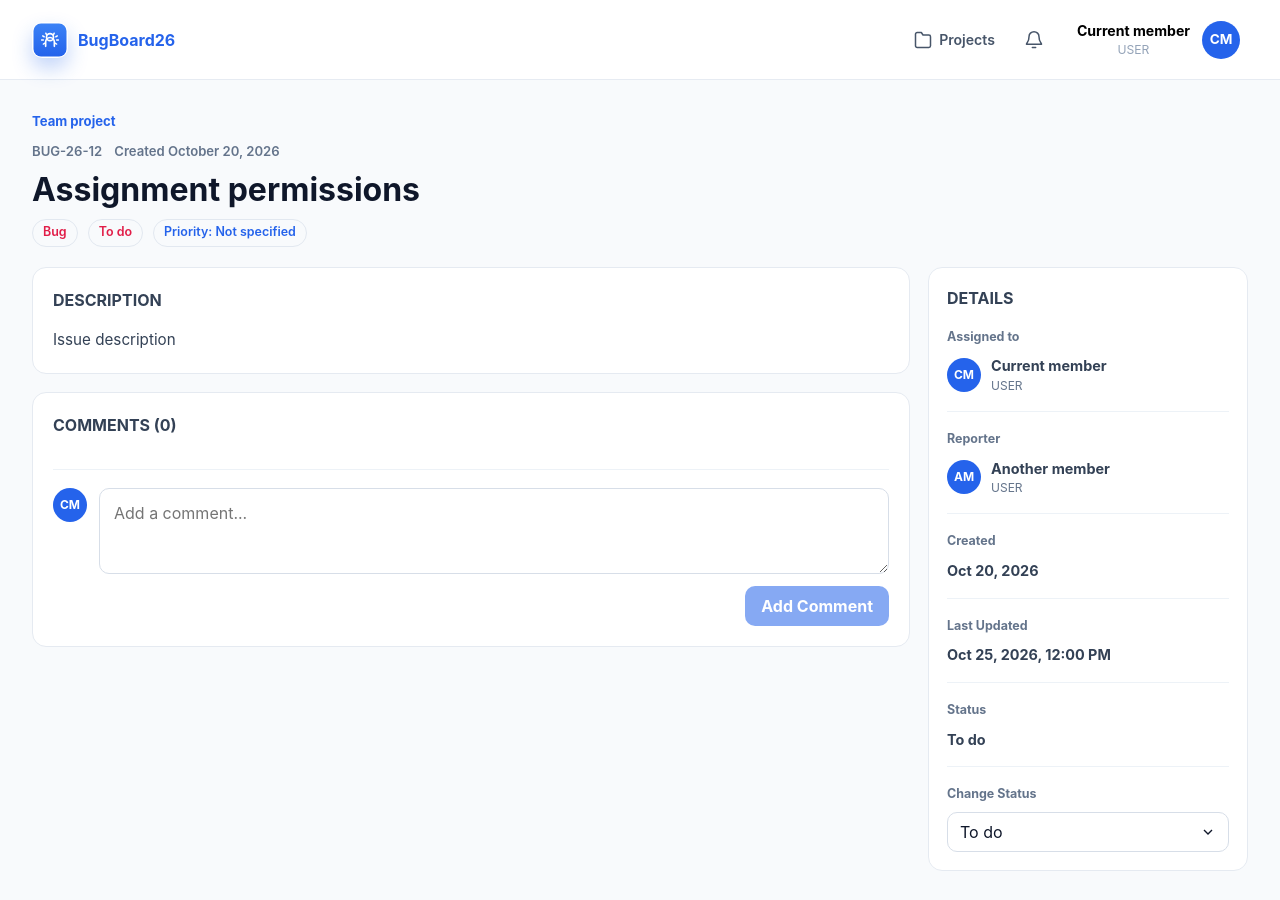
it: the assigned USER can advance the existing status transition
The image size is (1280, 900).
Check: the heading "Assignment permissions" is shown, box [32,170,420,209]
Click the button named "Change Status": [981, 832] box [947,812,1229,852]
(page scrolled)
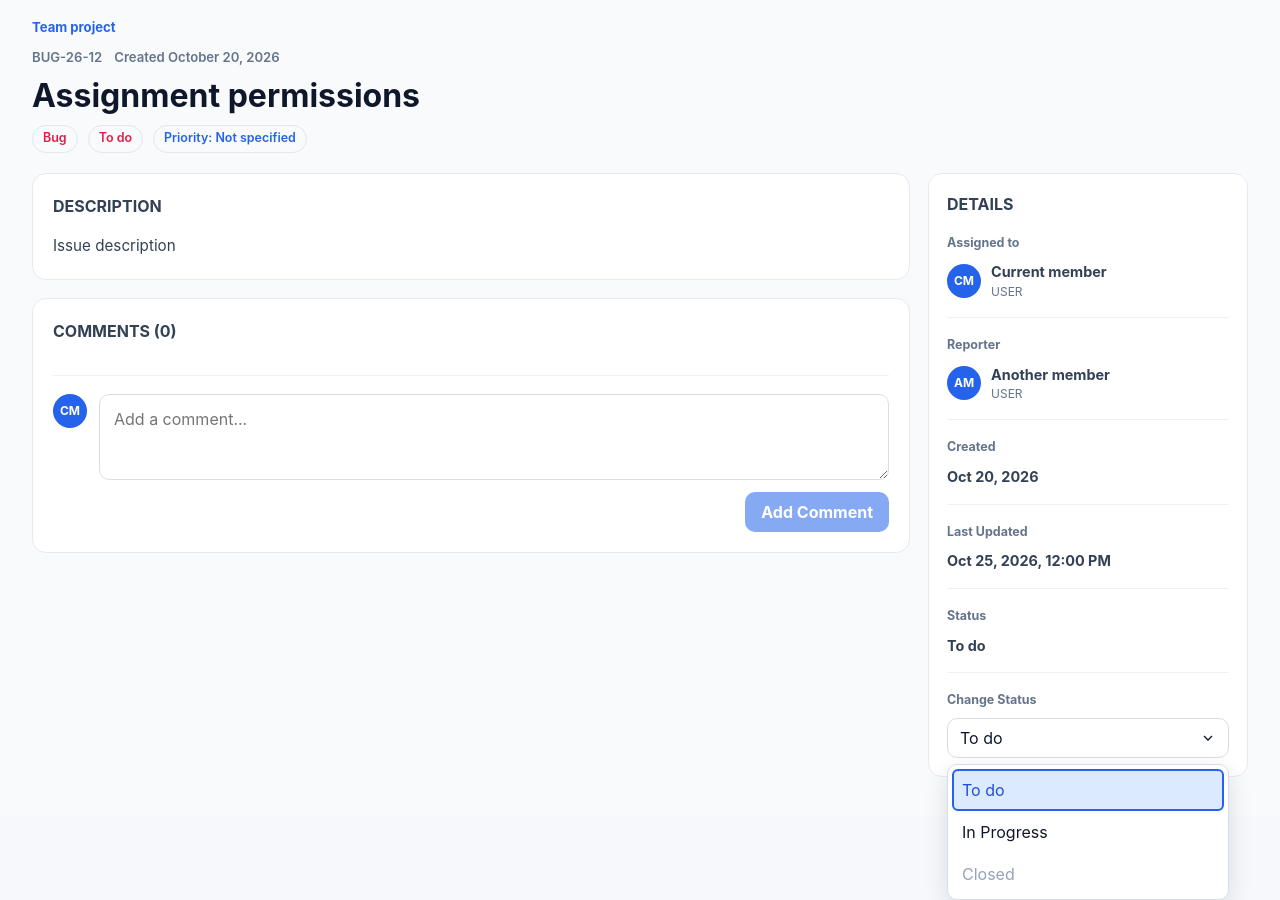
Click the option "In Progress": [1005, 832] box [952,811,1224,853]
(page scrolled)
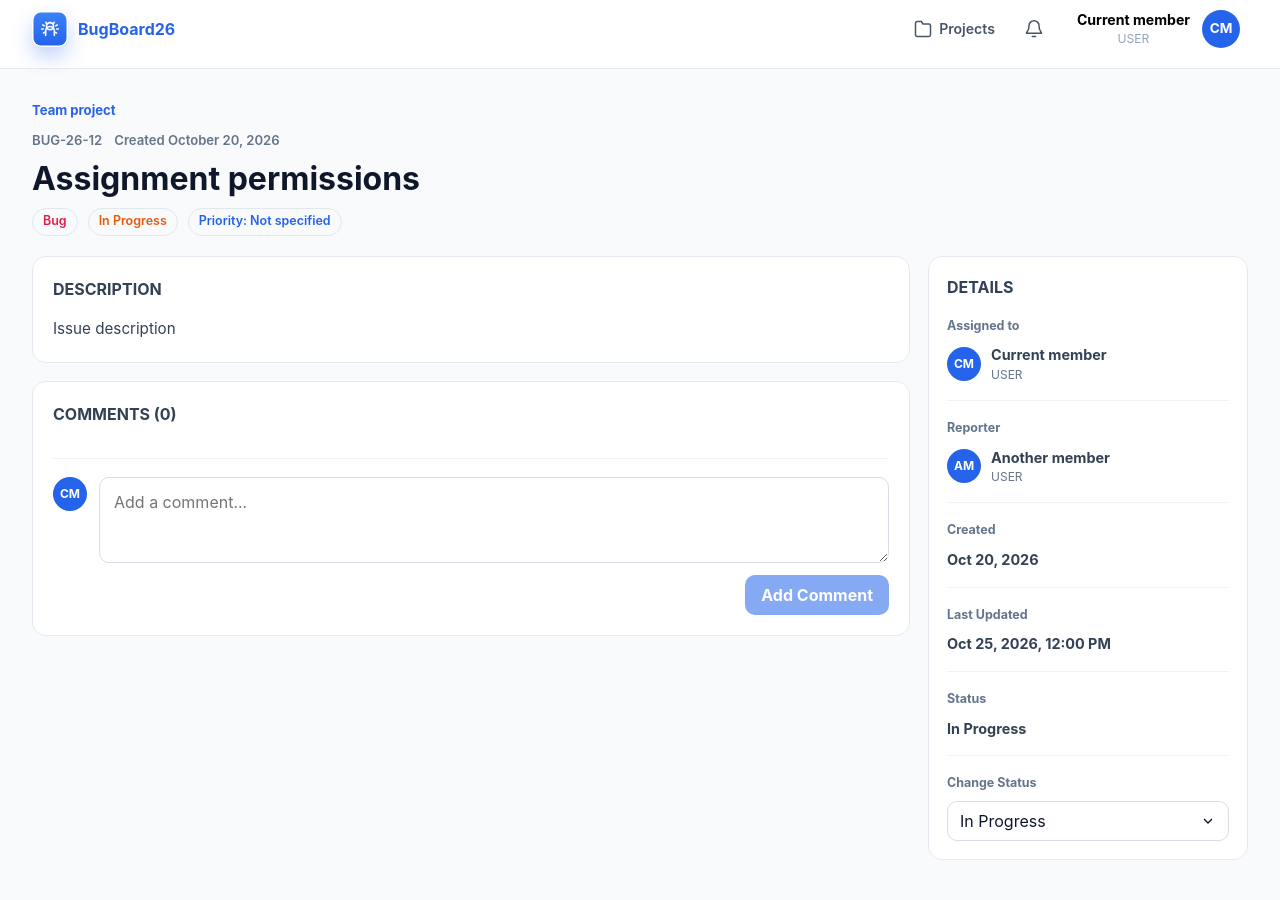
Check: the button named "Change Status" reads "In Progress", box [947,801,1229,841]
